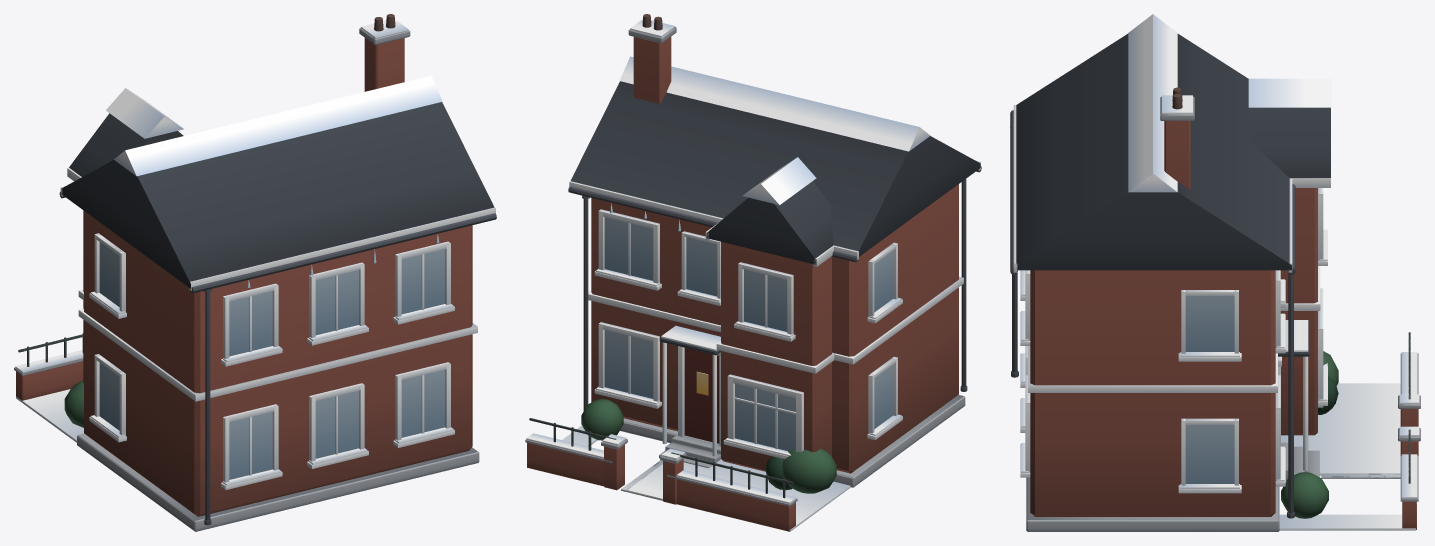
File: ck_house_gable_fence.fbx
3 views of the same model, side by side, from view 1: azimuth 30°, elevation 25°; view 2: azimuth 150°, elevation 25°; view 3: azimuth 270°, elevation 25° (orthographic). The views are drawn at different scales.
Parts seen in each view (by area): view 1: ck_house_gable_fence; view 2: ck_house_gable_fence; view 3: ck_house_gable_fence.
Part boxes in pixels (x1,y1,x2,y2): ck_house_gable_fence: (14, 14, 496, 531); ck_house_gable_fence: (525, 14, 981, 531); ck_house_gable_fence: (1010, 14, 1420, 531).
Size of the model in its own units: 1960 by 2450 by 2134.
